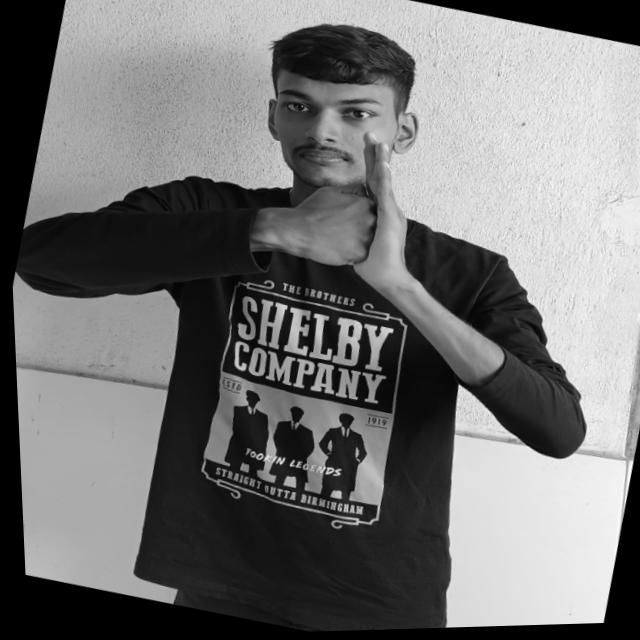Well Done: (285, 121, 430, 310)
